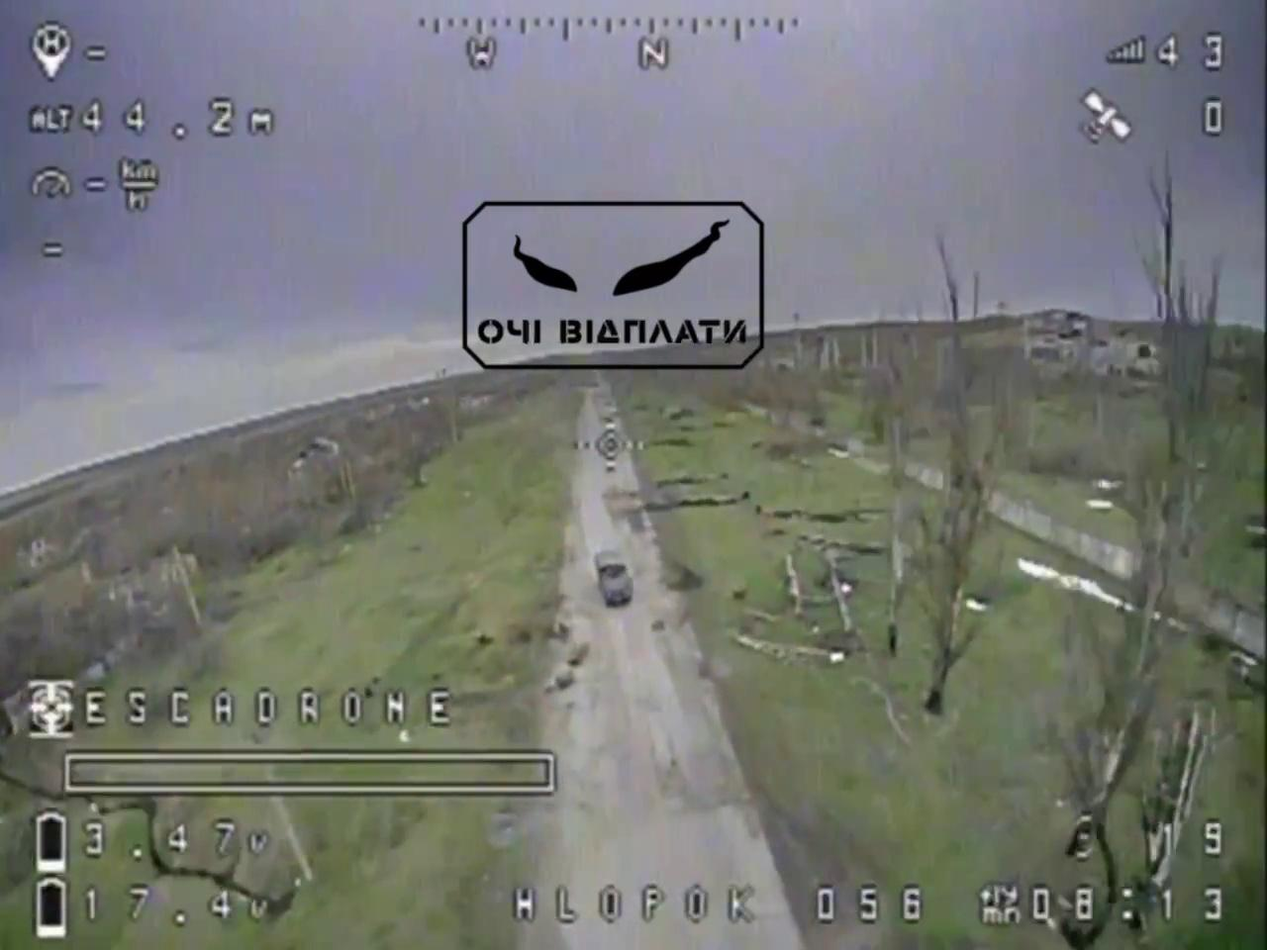vehicle: (588, 547, 638, 609)
